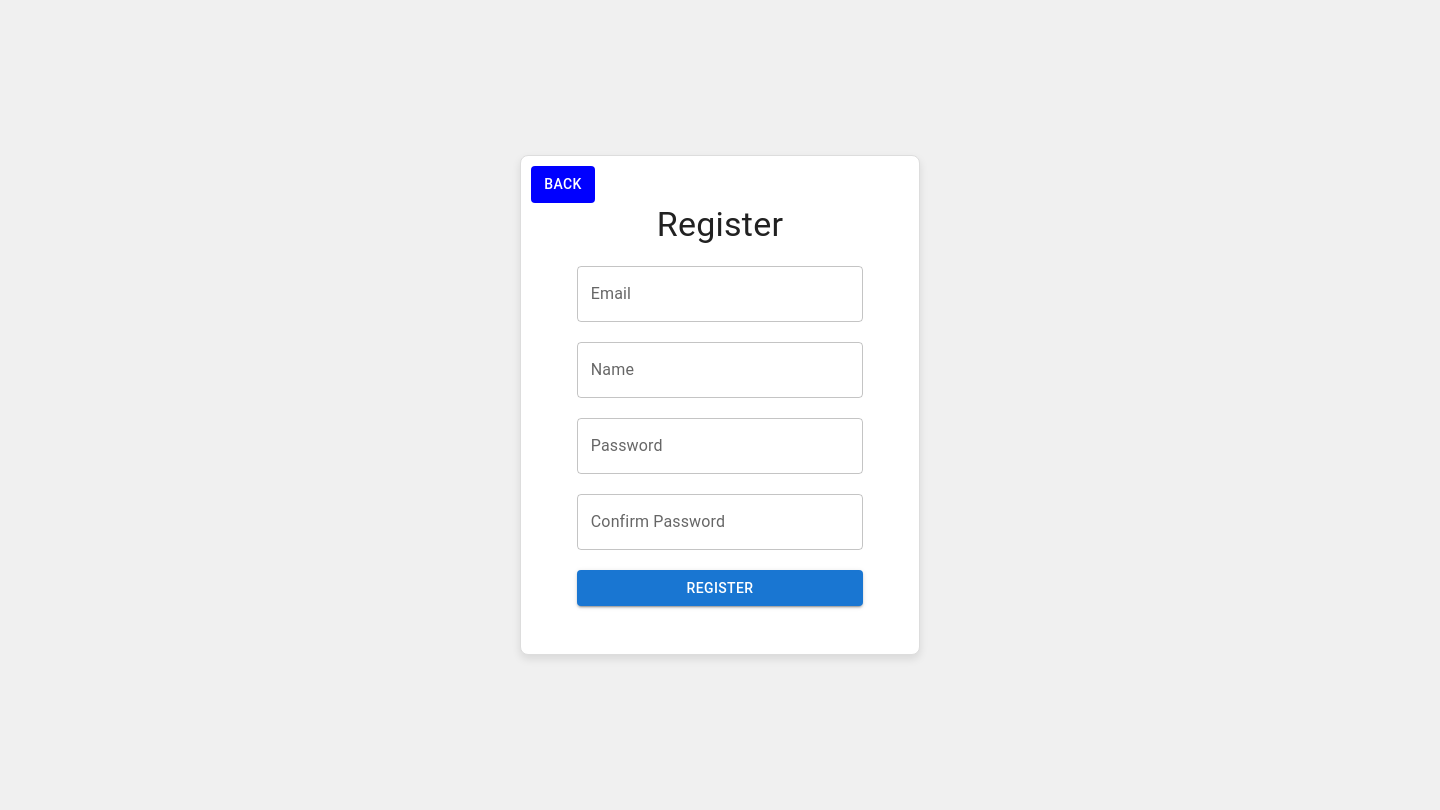
Test: Register Component › displays error popup when confirm password does not match password
In the field labelled "Email": (720, 294) left=577, top=266, right=863, bottom=322, type "test@example.com"
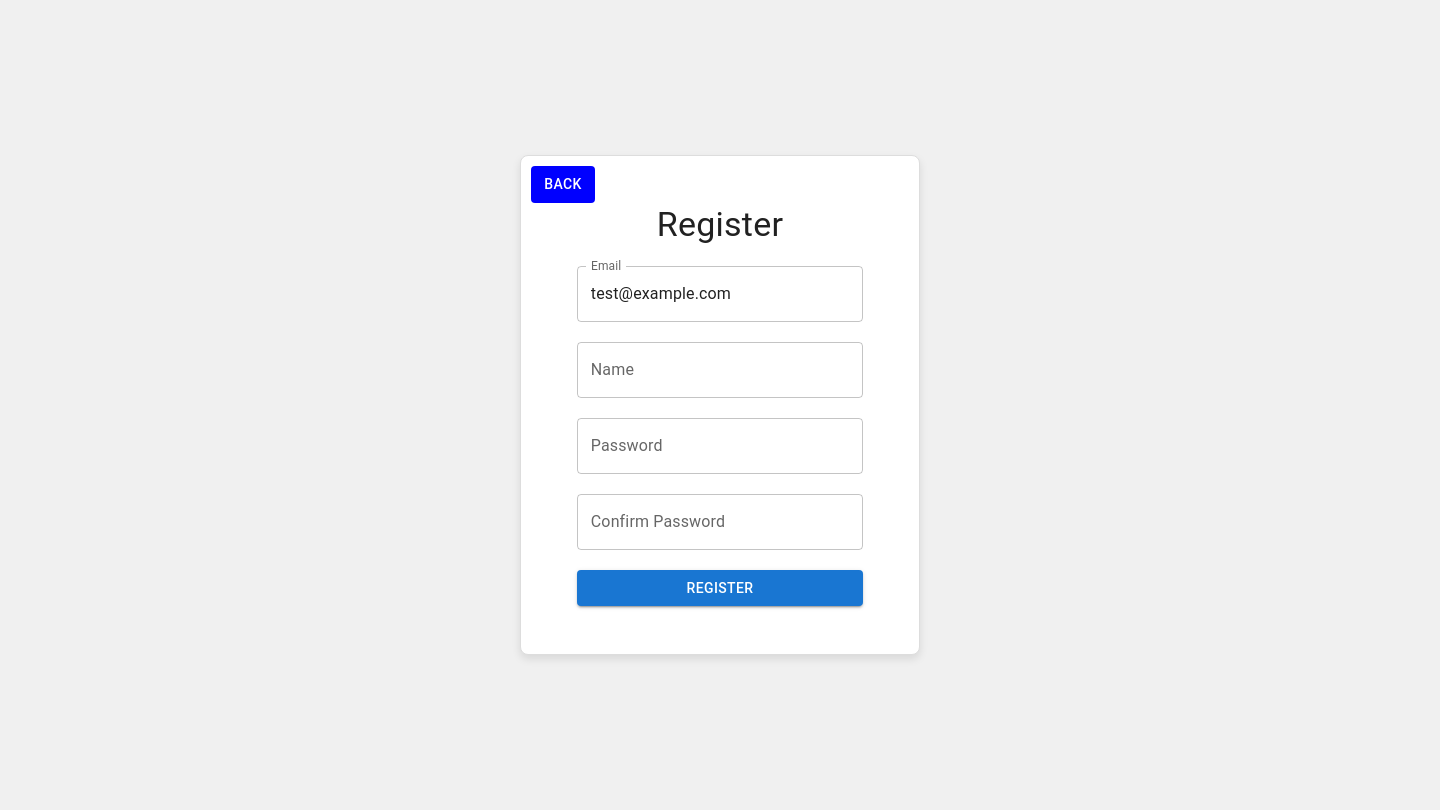
In the password field labelled "Password": (720, 446) left=577, top=418, right=863, bottom=474, type "password123"
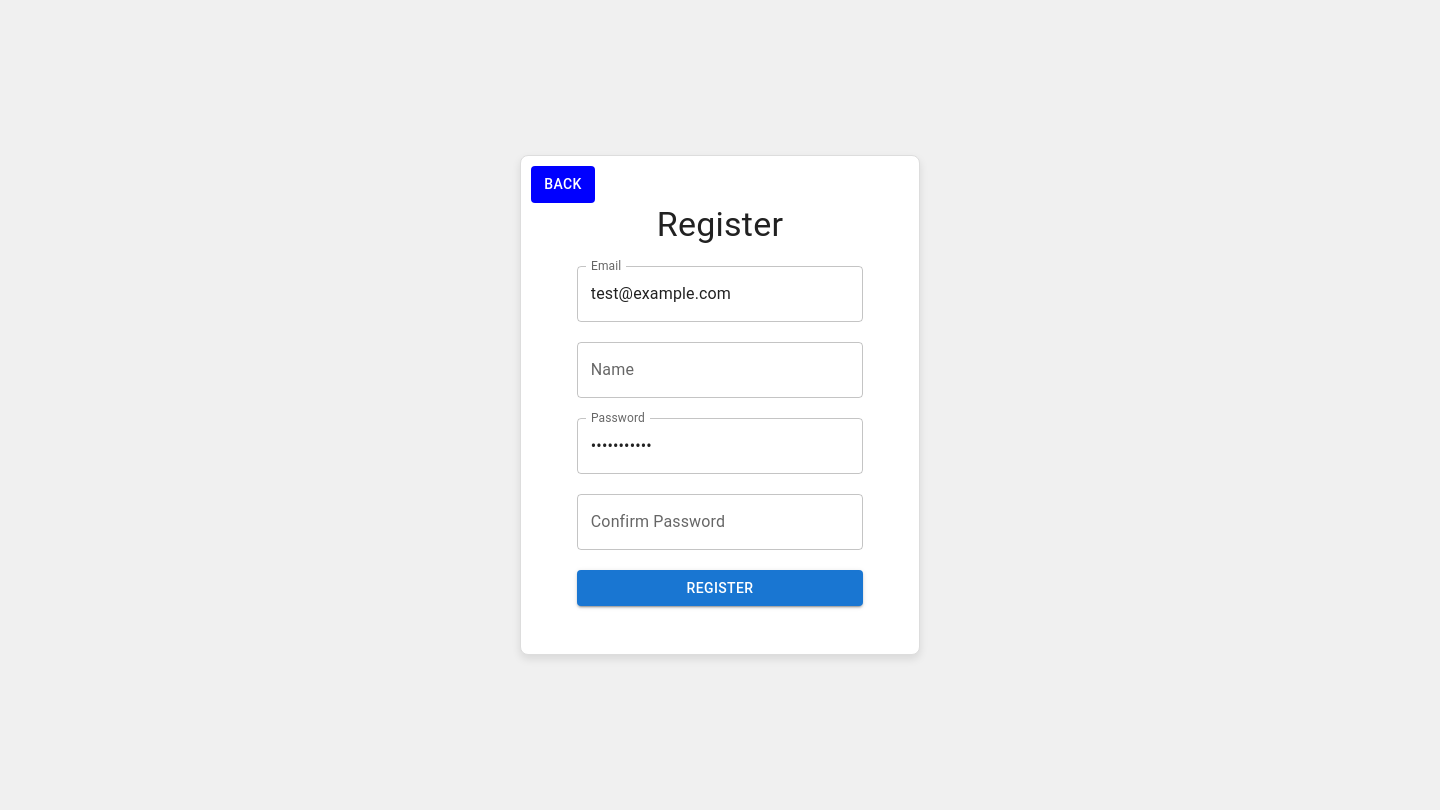
In the password field labelled "Confirm Password": (720, 522) left=577, top=494, right=863, bottom=550, type "differentPassword"
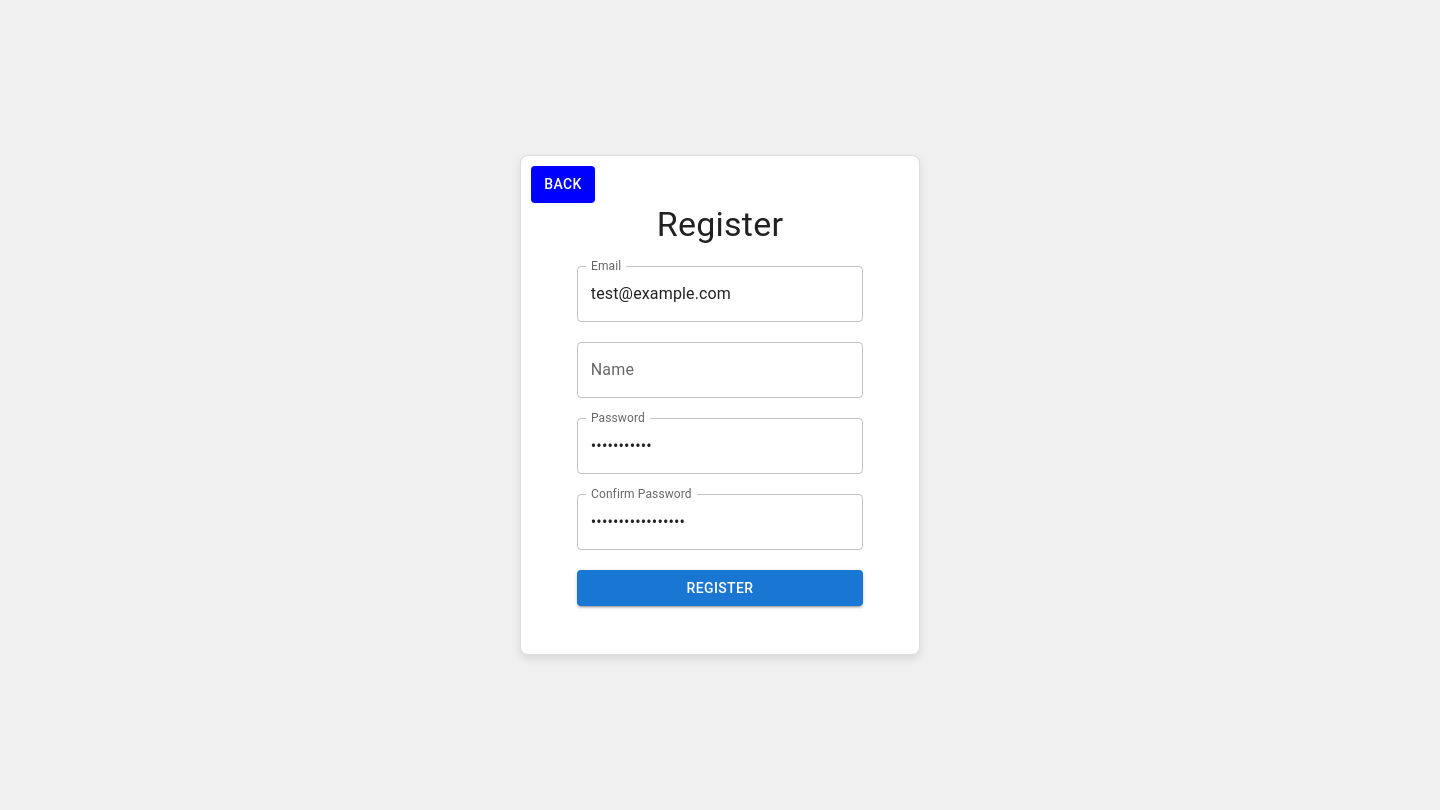
Click the button "Register": (720, 588) left=577, top=570, right=863, bottom=606
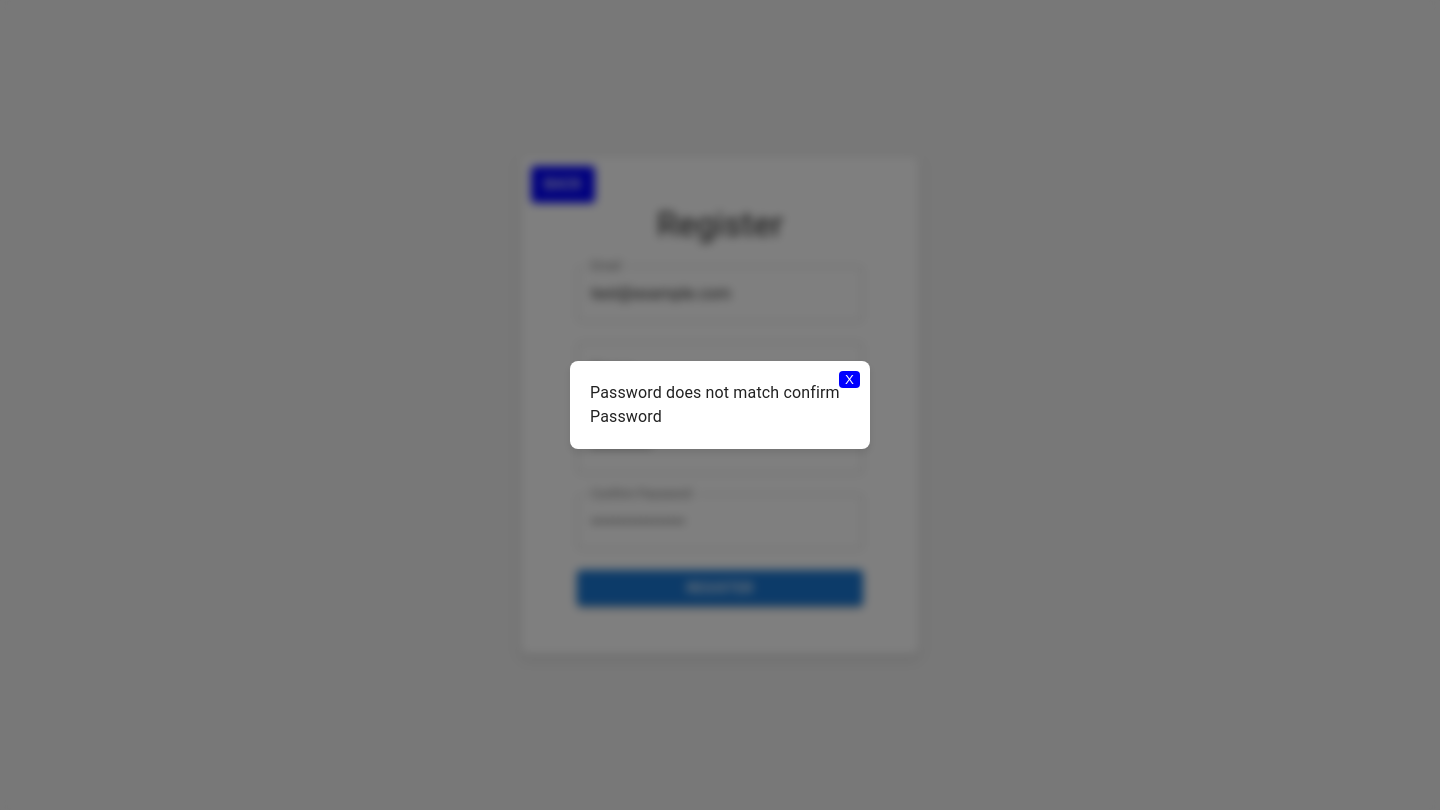
Expected: the text "X Password does not match confirm Password" is shown, left=570, top=361, right=870, bottom=449
